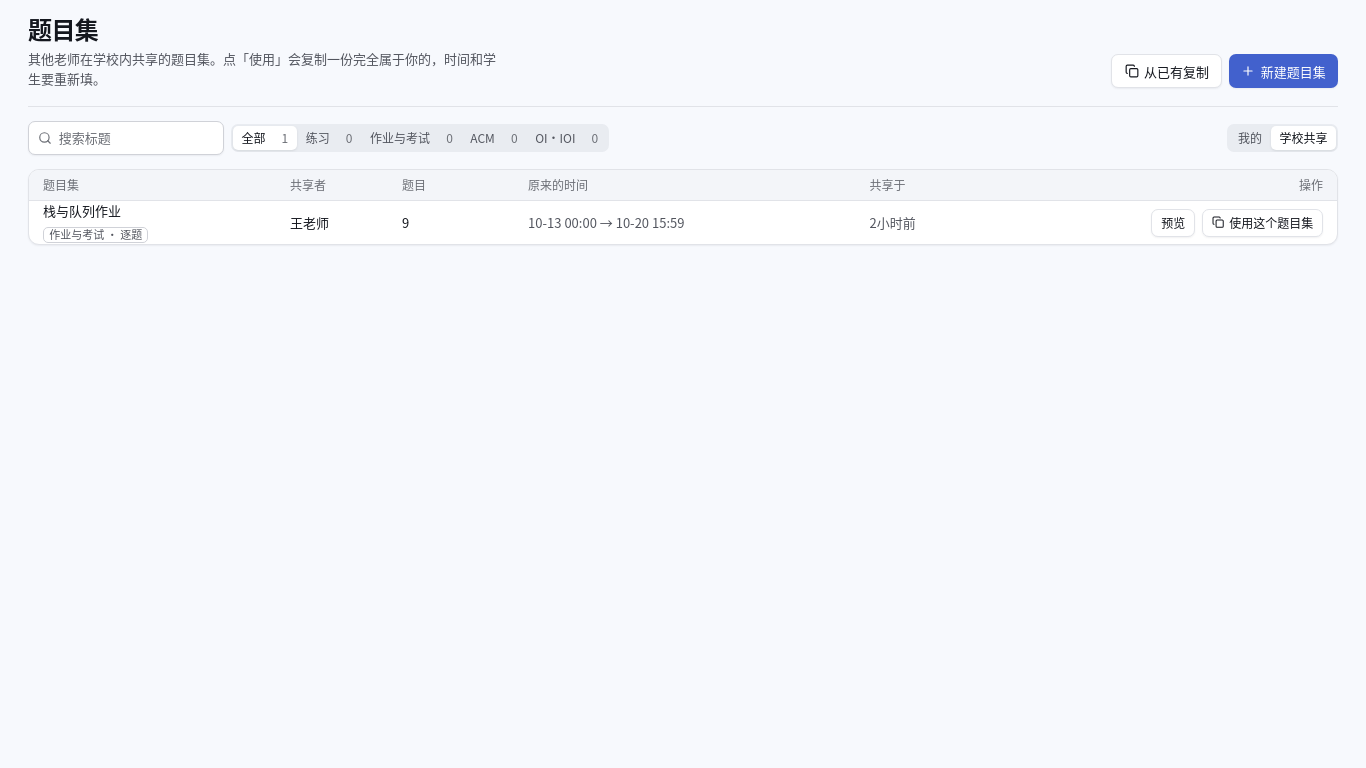
Test case: teach list page › shows a danger alert when the shared preview fails
What coordinates should you click on to do the following:
click the button "预览"
I would click on:
 (1173, 222)
Its box is [1152,208,1195,236].
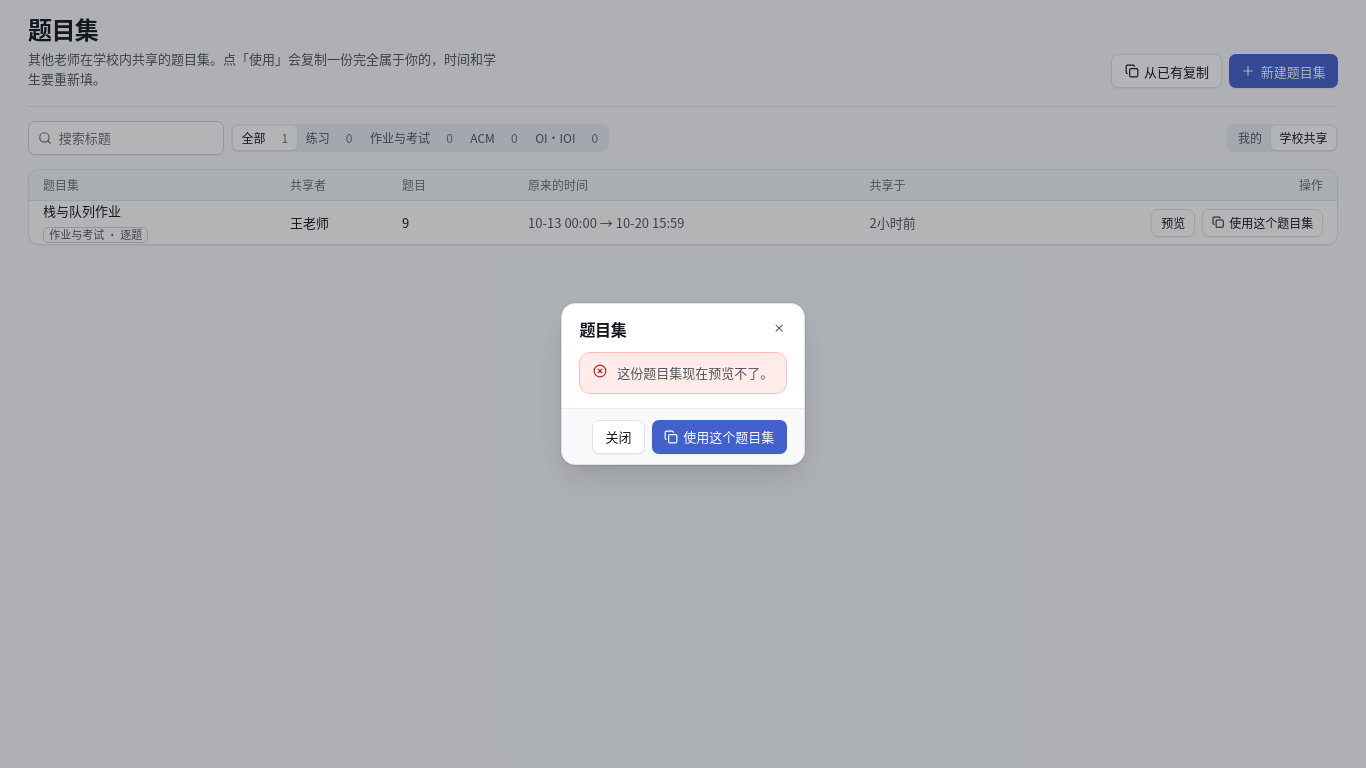
Result: the message reads "这份题目集现在预览不了。" at [617,363,773,382]
